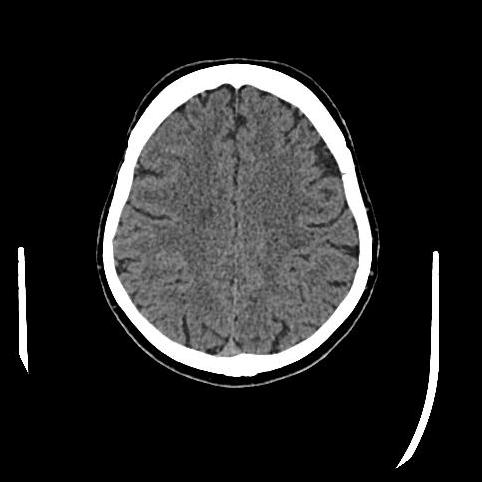Normal_Brain: (87, 56, 388, 401)
